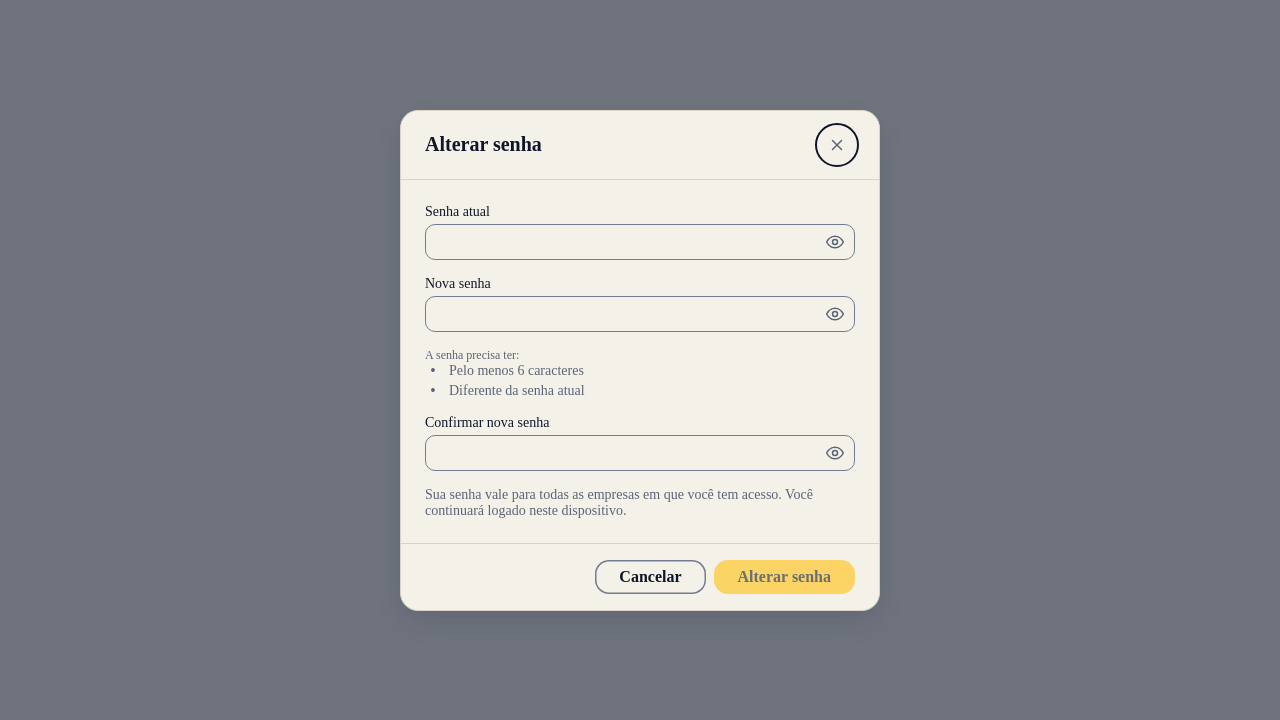
Test: AlterarSenhaModal › corrigir a senha atual limpa o erro do campo
Type "antiga1" into the password field labelled "Senha atual" at (640, 242), box [425,224,855,260]
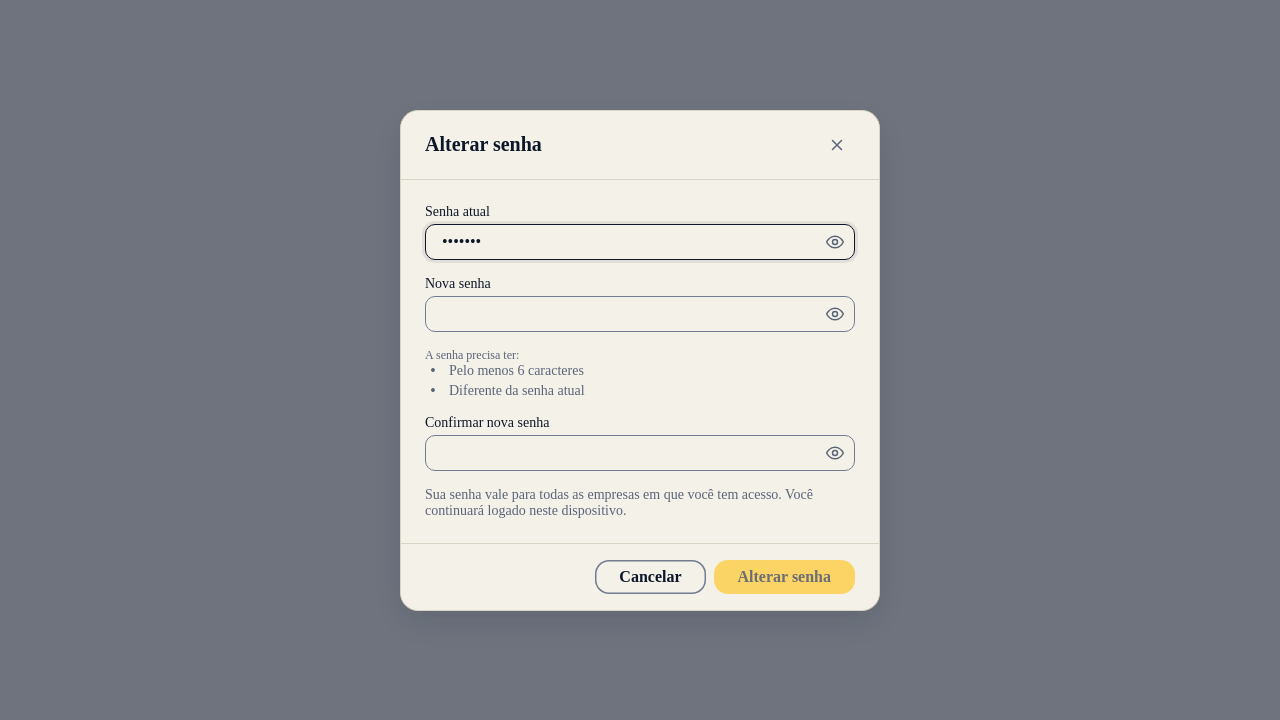
Type "nova123" into the password field labelled "Nova senha" at (640, 314), box [425,296,855,332]
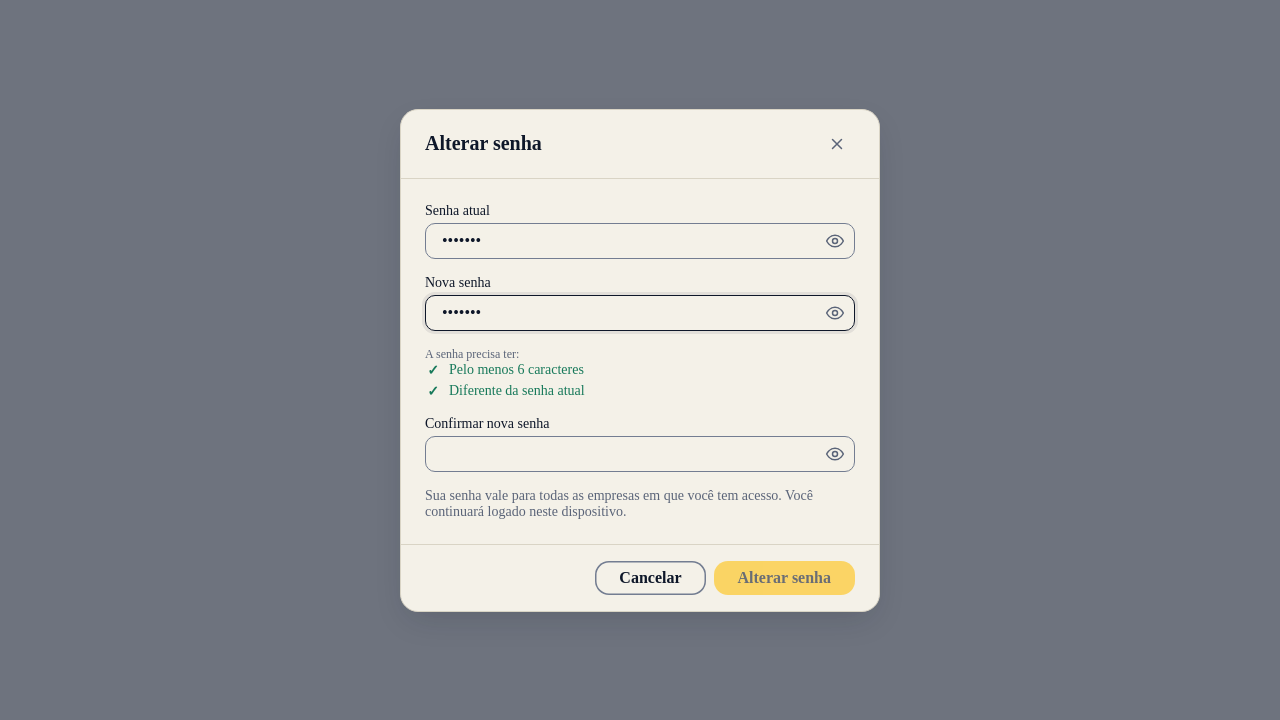
Type "nova123" into the password field labelled "Confirmar nova senha" at (640, 454), box [425,436,855,472]
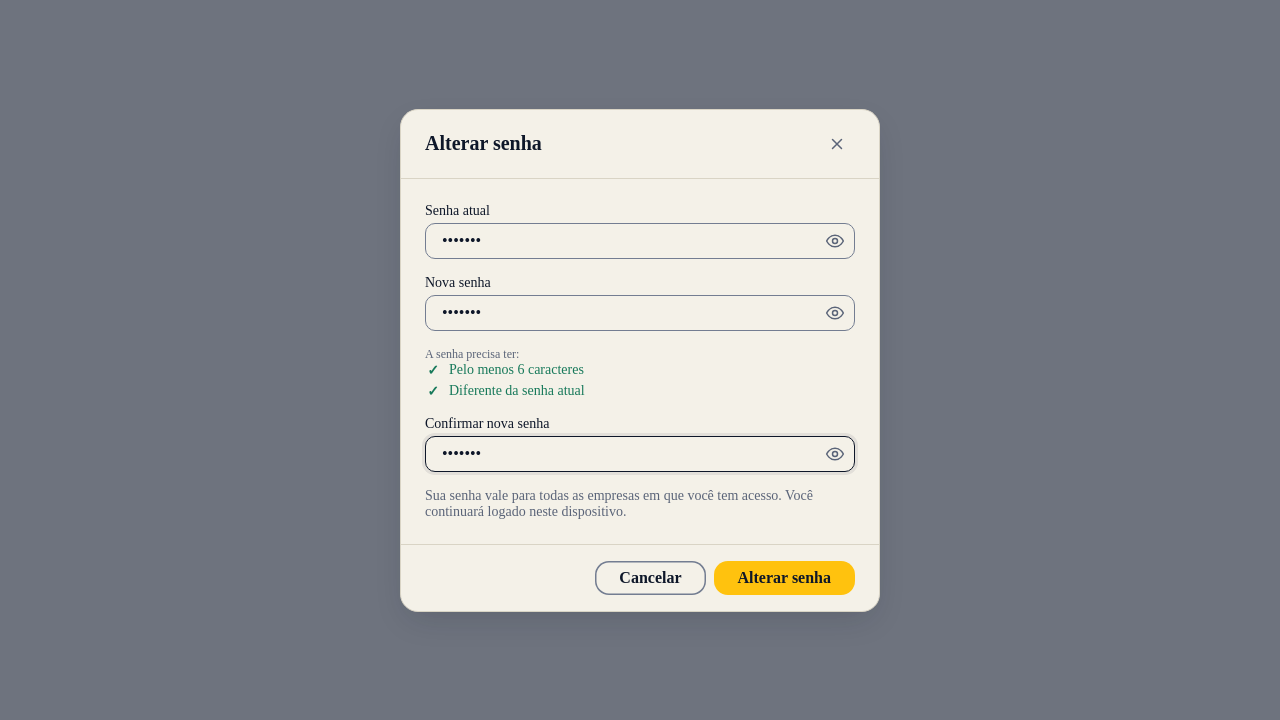
Click the button "Alterar senha" at (784, 578), box [714,560,855,594]
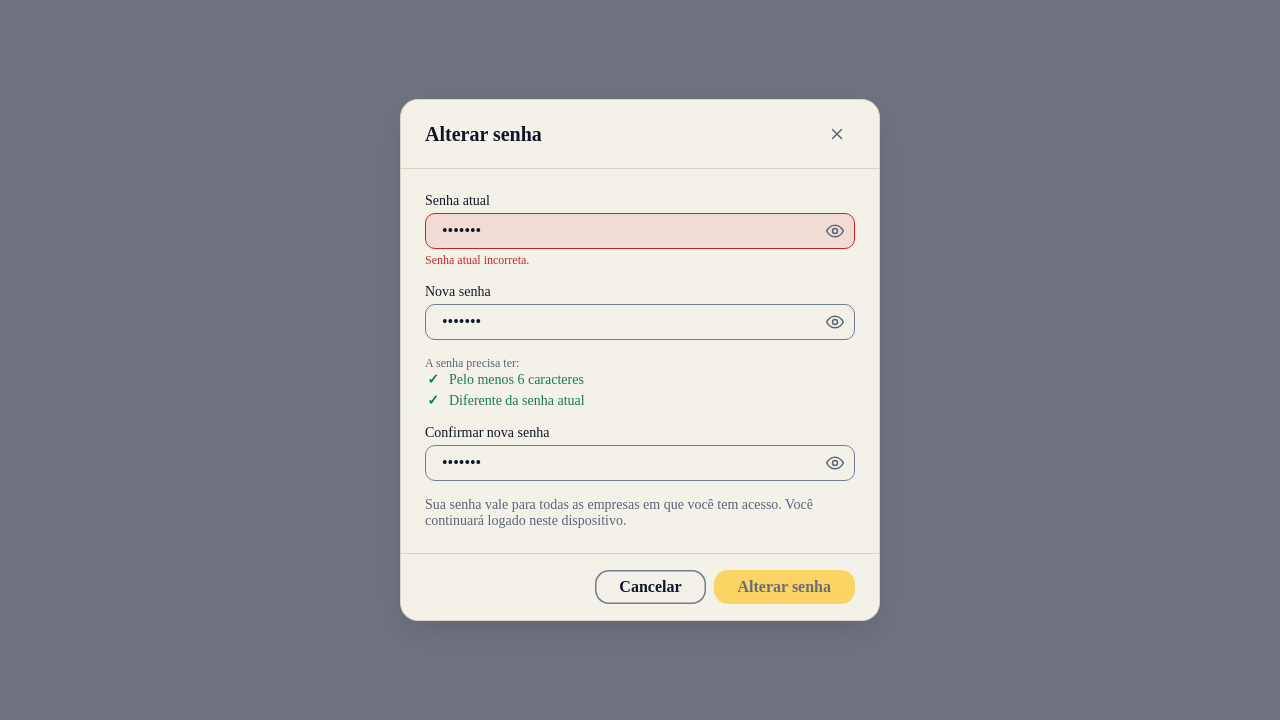
Expected: the text "Senha atual incorreta." is shown, [425,253,529,267]
Type "x" into the password field labelled "Senha atual" at (640, 231), box [425,213,855,249]
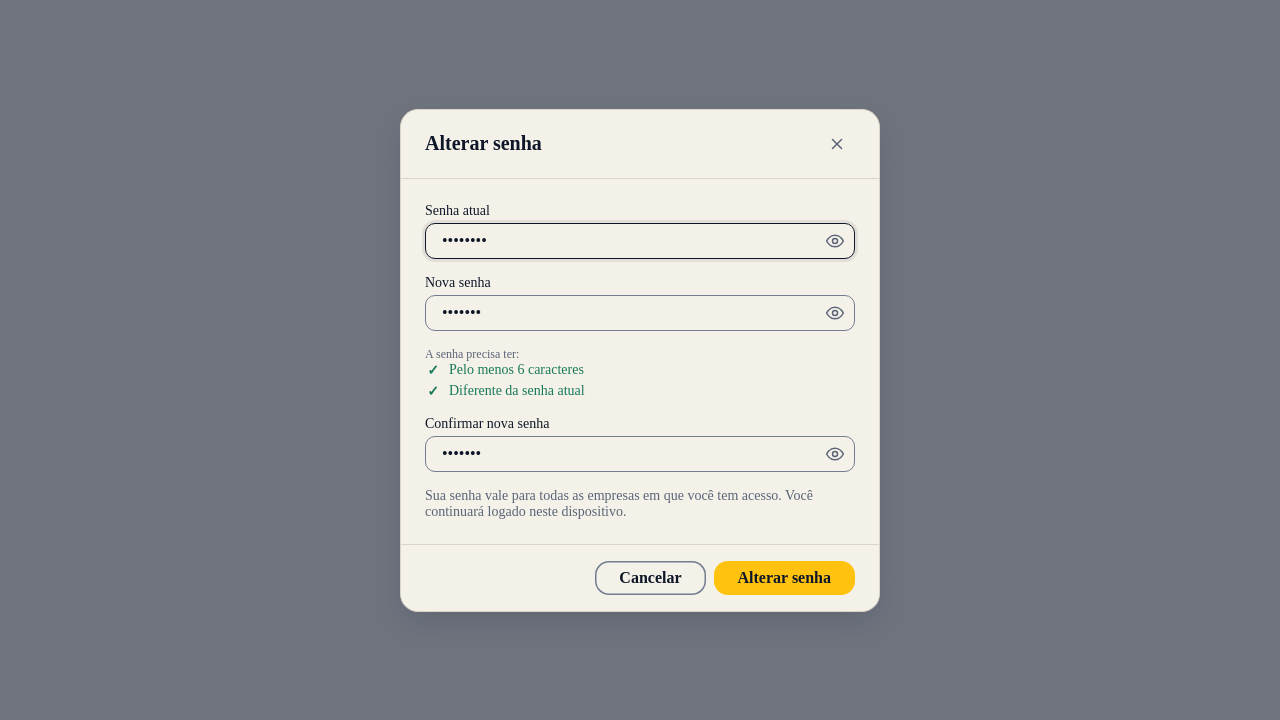
Expected: the text "Senha atual incorreta." is gone
